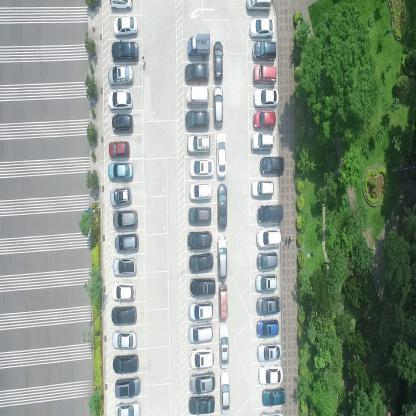car: (110, 328, 138, 351), (187, 32, 211, 58), (189, 346, 215, 370), (189, 371, 215, 395), (111, 40, 139, 62), (111, 353, 139, 375), (187, 300, 214, 322), (216, 235, 228, 283), (184, 62, 210, 84), (188, 156, 214, 178), (188, 252, 214, 274), (113, 14, 139, 36), (107, 64, 133, 86), (112, 208, 138, 230), (111, 305, 137, 327), (218, 324, 230, 370), (254, 86, 279, 108), (260, 153, 285, 175), (190, 276, 215, 298), (113, 232, 138, 254), (258, 364, 283, 386), (257, 202, 283, 223), (256, 226, 282, 247), (111, 257, 137, 278), (106, 90, 133, 110), (107, 162, 134, 182), (114, 376, 141, 396), (188, 396, 216, 415), (253, 108, 277, 130), (216, 131, 227, 179), (216, 181, 227, 229), (187, 133, 211, 155), (111, 281, 135, 303), (219, 371, 231, 415), (250, 17, 275, 38), (256, 340, 282, 360), (188, 324, 214, 344), (188, 182, 212, 203), (250, 131, 275, 151), (187, 230, 212, 250), (261, 387, 286, 407), (213, 38, 224, 82), (109, 186, 131, 208), (186, 86, 209, 107), (251, 178, 275, 198), (188, 206, 212, 226), (110, 113, 134, 133), (185, 110, 210, 129), (213, 86, 224, 128), (256, 316, 279, 336), (253, 40, 277, 59), (254, 64, 278, 83), (256, 296, 281, 314), (255, 272, 277, 292), (107, 140, 130, 159), (256, 250, 278, 269), (115, 400, 140, 416), (218, 283, 228, 321), (245, 0, 272, 13), (109, 0, 133, 12)
